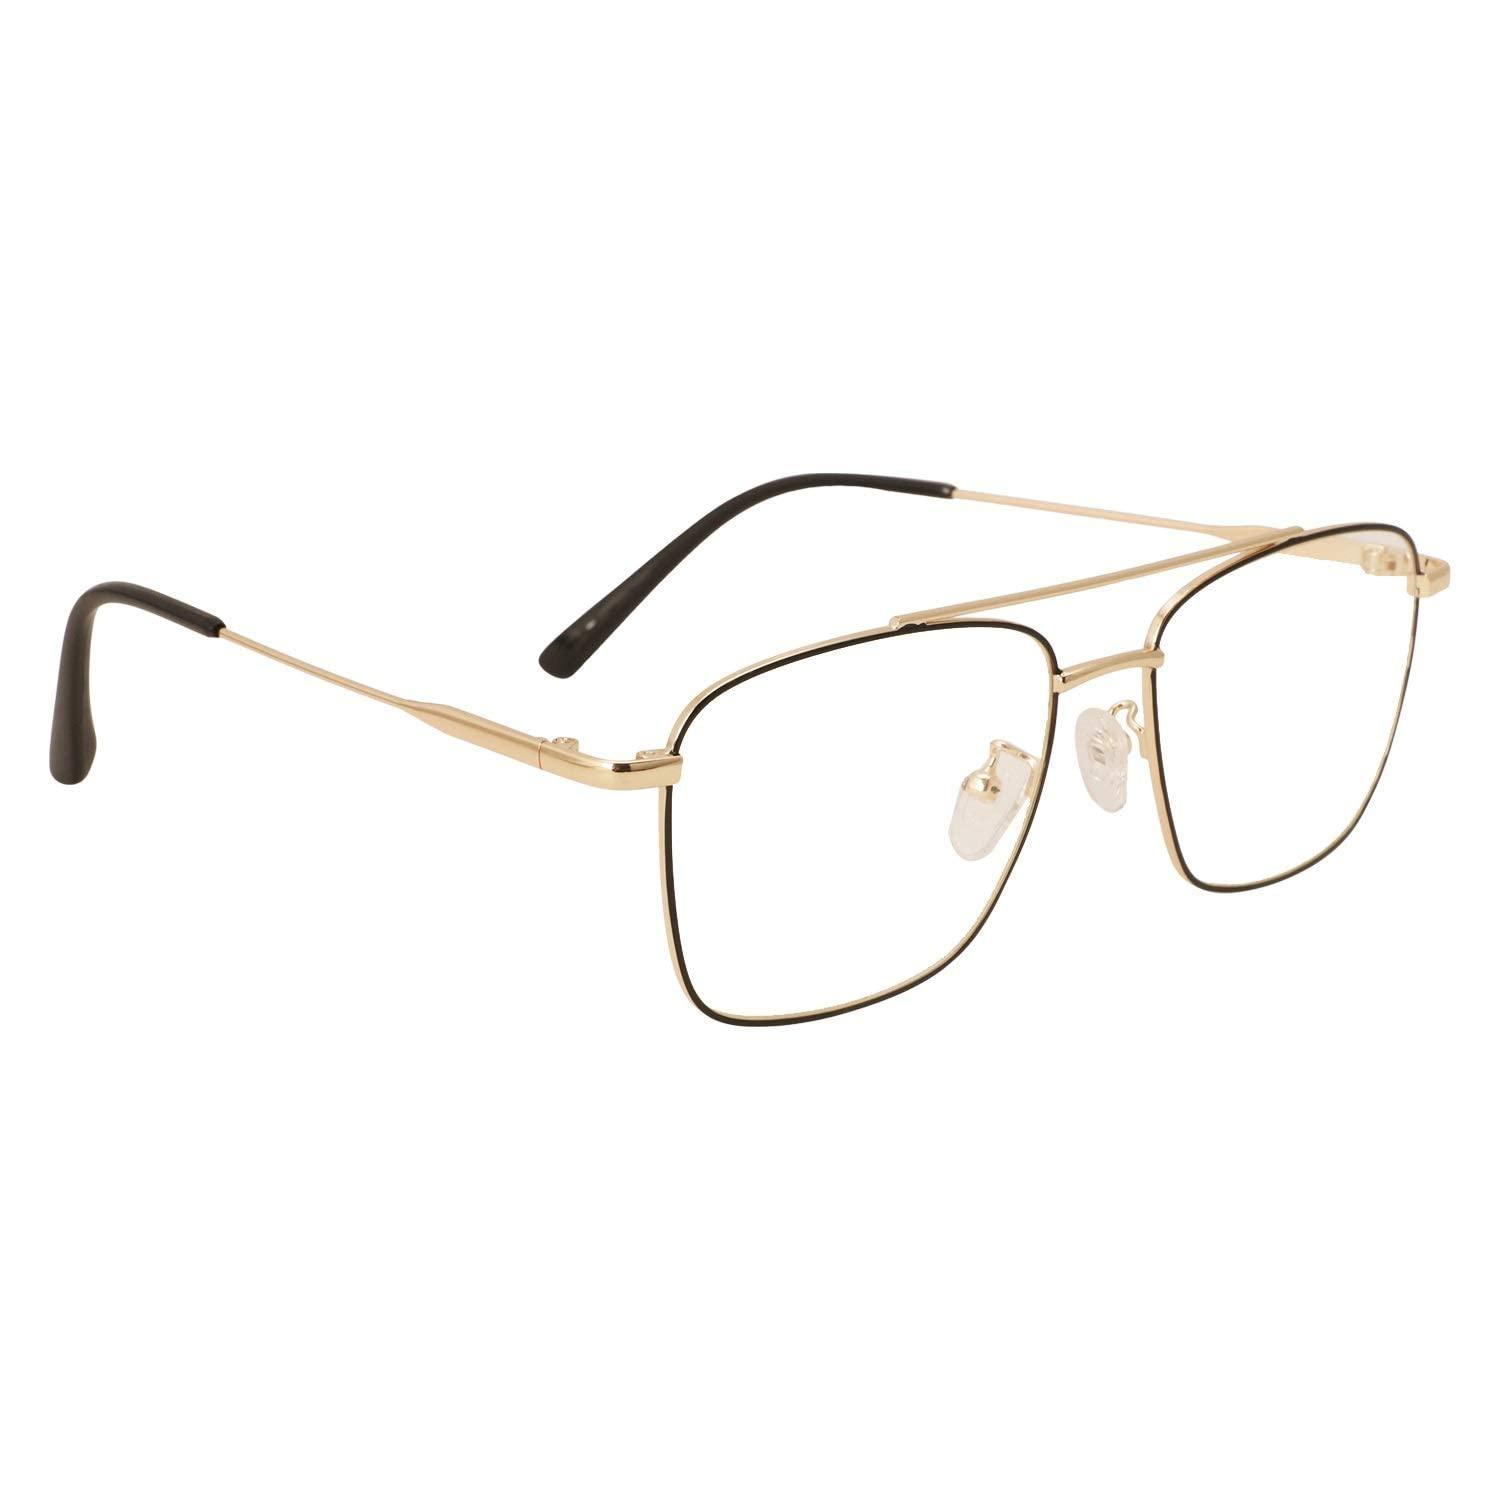spectacles: (23, 504, 1456, 1055), (16, 560, 1382, 1015)
